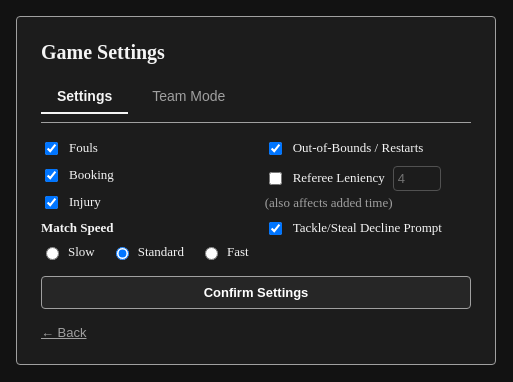
Test: GameSettingsScreen — Team Mode tab (D-04/D-05/D-06) › switching to Team Mode shows the Draft toggle off by default, with no Draft Pool section
This screenshot has width=513, height=382.
Click the tab "Team Mode" at x=189, y=96, box [136, 80, 241, 114]
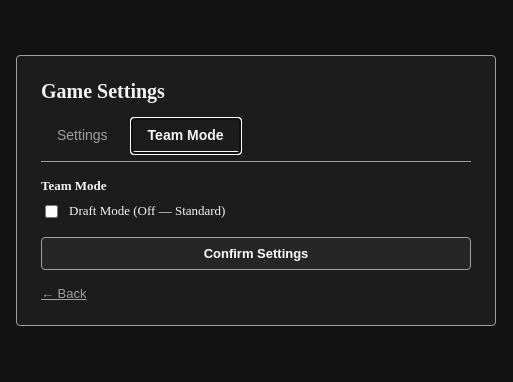
Result: the switch is not checked at [45, 204, 58, 218]
